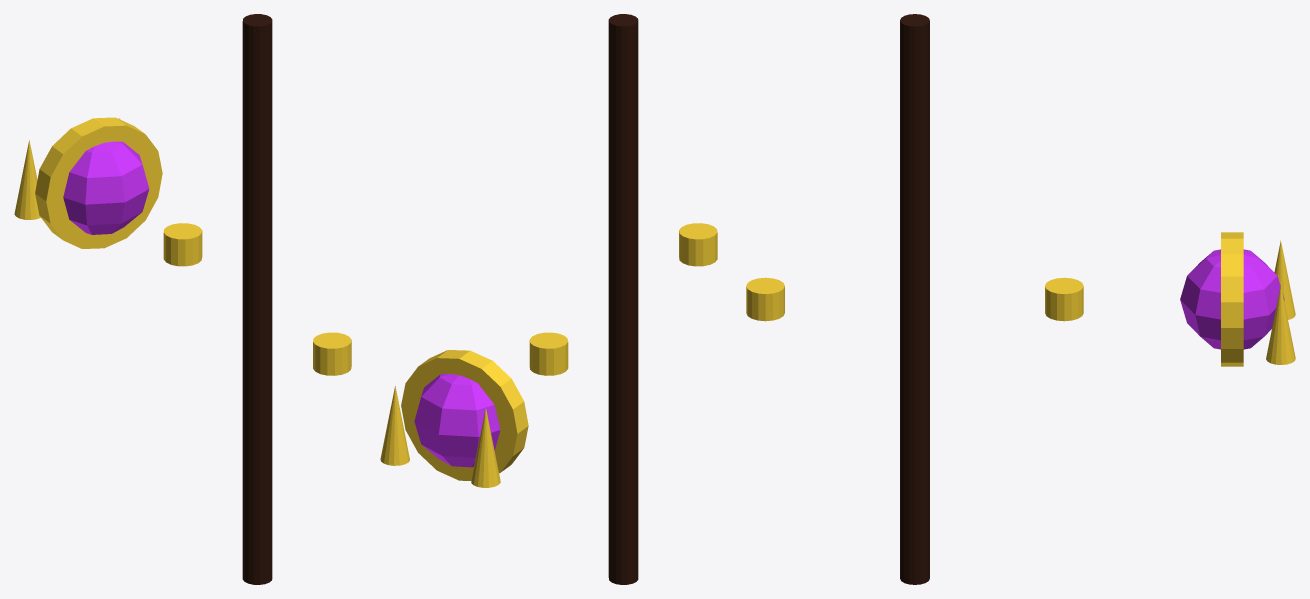
File: mage_staff.obj
3 renders of one model, left to right at view 1: azimuth 30°, elevation 25°; view 2: azimuth 150°, elevation 25°; view 3: azimuth 270°, elevation 25°, orthographic.
Visible parts, largest first — view 1: Staff_Shaft, Crown_Ring, Floating_Crystal, Staff_Band_2, Staff_Band_1, Crown_Spike_L; view 2: Staff_Shaft, Crown_Ring, Floating_Crystal, Staff_Band_2, Staff_Band_1, Crown_Spike_R, Crown_Spike_L; view 3: Staff_Shaft, Floating_Crystal, Crown_Ring, Staff_Band_1, Staff_Band_2, Crown_Spike_R.
Part boxes in pixels (box(x1,y1,x2,y2)): Staff_Shaft: box(242, 14, 272, 584); Crown_Ring: box(35, 117, 162, 248); Floating_Crystal: box(63, 141, 149, 234); Staff_Band_2: box(163, 223, 202, 266); Staff_Band_1: box(313, 332, 351, 375); Crown_Spike_L: box(14, 140, 40, 219); Staff_Shaft: box(608, 14, 638, 584); Crown_Ring: box(401, 350, 528, 480); Floating_Crystal: box(414, 374, 500, 467); Staff_Band_2: box(529, 332, 568, 375); Staff_Band_1: box(679, 223, 717, 266); Crown_Spike_R: box(380, 386, 409, 465); Crown_Spike_L: box(471, 408, 500, 487); Staff_Shaft: box(900, 14, 929, 584); Floating_Crystal: box(1180, 249, 1284, 349); Crown_Ring: box(1221, 232, 1243, 366); Staff_Band_1: box(746, 277, 784, 321); Staff_Band_2: box(1045, 277, 1083, 321); Crown_Spike_R: box(1266, 285, 1295, 364).
Size of the model in its own units: 0.36 by 1.65 by 1.47.
